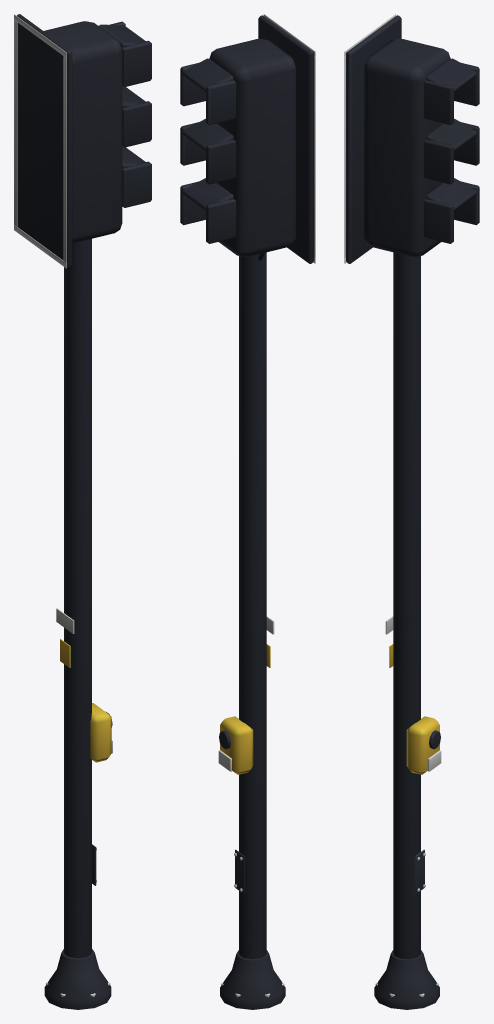
Rendered from SM_City_TrafficLight.fbx.
3 views of the same model, side by side, from view 1: azimuth 30°, elevation 25°; view 2: azimuth 210°, elevation 25°; view 3: azimuth 330°, elevation 25° (orthographic).
Parts seen in each view (by area): view 1: SM_City_TrafficLight; view 2: SM_City_TrafficLight; view 3: SM_City_TrafficLight.
Part boxes in pixels (<box>): SM_City_TrafficLight: <box>14,14,151,1009</box>; SM_City_TrafficLight: <box>180,14,315,1009</box>; SM_City_TrafficLight: <box>344,14,479,1009</box>.
Bounding box in the file's own units: 47.53 × 450 × 44.15.
